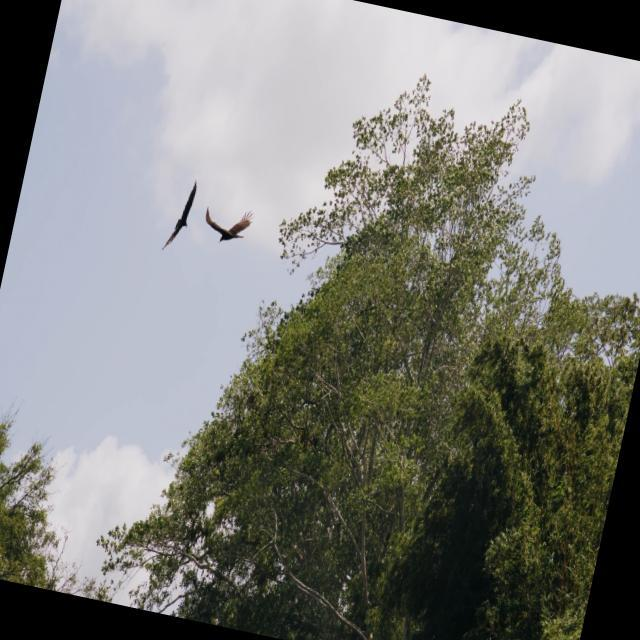bird: (160, 175, 199, 256), (199, 199, 257, 250)
